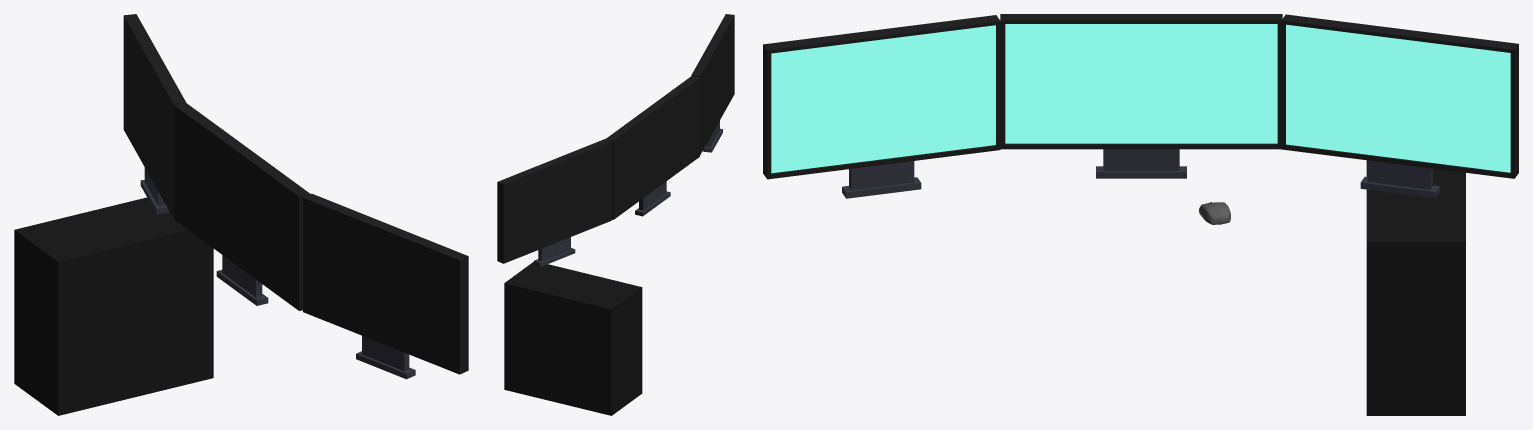
The model's file is battlestation_extra.glb.
The picture shows the model from 3 angles, left to right: view 1: azimuth 30°, elevation 25°; view 2: azimuth 150°, elevation 25°; view 3: azimuth 270°, elevation 25°; orthographic projection. The views are drawn at different scales.
Visible parts, largest first — view 1: CPU, computer left, computer, computer right; view 2: CPU, computer right, computer, computer left; view 3: computer, computer right, computer left, CPU.
Part boxes in pixels (x1=…): CPU: x1=14, y1=197, x2=213, y2=415; computer left: x1=303, y1=193, x2=468, y2=379; computer: x1=174, y1=102, x2=310, y2=310; computer right: x1=123, y1=14, x2=185, y2=218; CPU: x1=504, y1=261, x2=642, y2=415; computer right: x1=497, y1=138, x2=611, y2=266; computer: x1=606, y1=75, x2=699, y2=219; computer left: x1=691, y1=14, x2=734, y2=154; computer: x1=1000, y1=14, x2=1282, y2=178; computer right: x1=1281, y1=14, x2=1518, y2=198; computer left: x1=763, y1=15, x2=1000, y2=198; CPU: x1=1366, y1=160, x2=1465, y2=415.
Size of the model in its own units: 0.7346 by 1.28 by 2.45.
